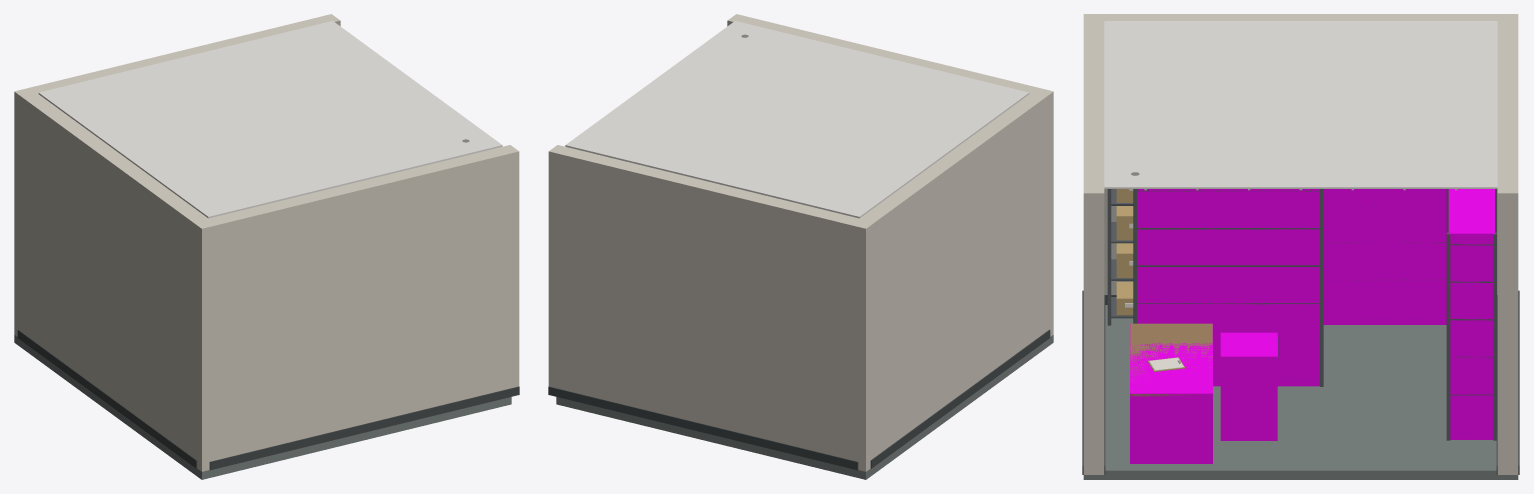
The model's file is ENV_RecordsArchive.glb.
The picture shows the model from 3 angles, left to right: view 1: azimuth 30°, elevation 25°; view 2: azimuth 150°, elevation 25°; view 3: azimuth 270°, elevation 25°; orthographic projection. The views are drawn at different scales.
Visible parts, largest first — view 1: ENV_RecordsArchive_Architecture, ENV_RecordsArchive_Ceiling, ENV_RecordsArchive_Posts; view 2: ENV_RecordsArchive_Architecture, ENV_RecordsArchive_Ceiling, ENV_RecordsArchive_Posts; view 3: ENV_RecordsArchive_Ceiling, ENV_RecordsArchive_Architecture, PROP_Shelving_Archive_COL-colonly.002, PROP_Shelving_Archive_COL-colonly.001, PROP_Shelving_Archive_COL-colonly.003, PROP_Desk_Clinical_COL-colonly.002, PROP_Chair_Visitor_COL-colonly.002, PROP_Shelving_Archive_Mesh, PROP_Desk_Clinical_Mesh.002, PROP_Shelving_Archive_Mesh.003, PROP_Shelving_Archive_Mesh.002.
Part boxes in pixels (<box>): ENV_RecordsArchive_Architecture: <box>14,14,519,479</box>; ENV_RecordsArchive_Ceiling: <box>38,21,502,218</box>; ENV_RecordsArchive_Posts: <box>14,89,216,471</box>; ENV_RecordsArchive_Architecture: <box>548,14,1053,479</box>; ENV_RecordsArchive_Ceiling: <box>565,21,1029,218</box>; ENV_RecordsArchive_Posts: <box>850,87,1053,471</box>; ENV_RecordsArchive_Ceiling: <box>1104,21,1497,190</box>; ENV_RecordsArchive_Architecture: <box>1082,14,1519,479</box>; PROP_Shelving_Archive_COL-colonly.002: <box>1137,189,1319,386</box>; PROP_Shelving_Archive_COL-colonly.001: <box>1323,189,1446,324</box>; PROP_Shelving_Archive_COL-colonly.003: <box>1448,189,1494,439</box>; PROP_Desk_Clinical_COL-colonly.002: <box>1130,324,1212,463</box>; PROP_Chair_Visitor_COL-colonly.002: <box>1220,332,1277,440</box>; PROP_Shelving_Archive_Mesh: <box>1107,189,1133,325</box>; PROP_Desk_Clinical_Mesh.002: <box>1130,323,1212,396</box>; PROP_Shelving_Archive_Mesh.003: <box>1446,189,1496,440</box>; PROP_Shelving_Archive_Mesh.002: <box>1133,189,1323,386</box>.
Size of what is drawn, in the model's own units: 4.11 by 3.13 by 4.22.
